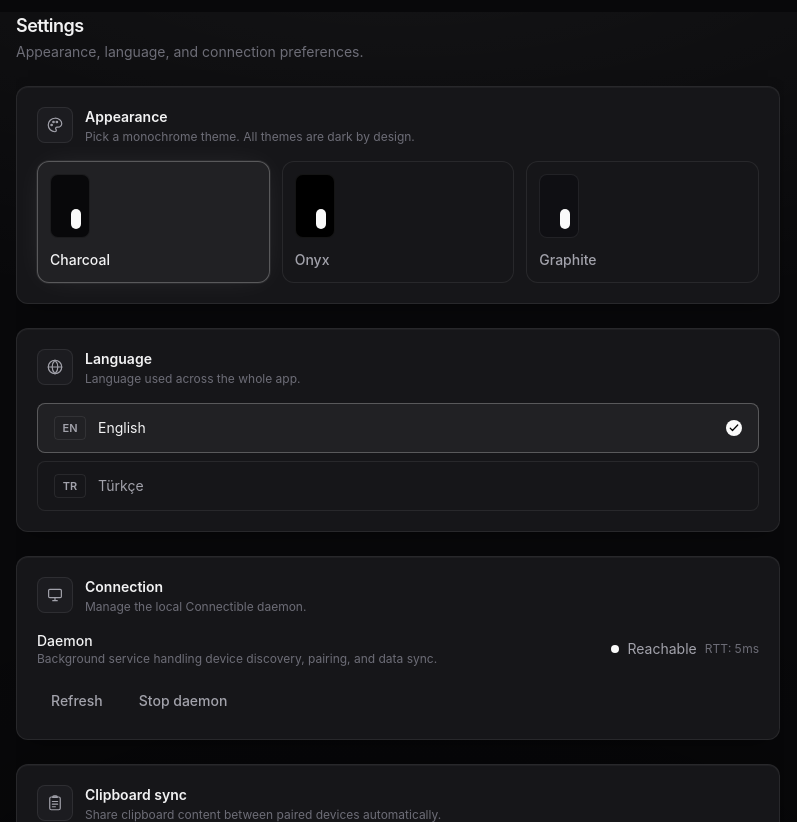
Test: SettingsPanel › stops the daemon, re-checks status, and surfaces a stop failure distinctly from a status-check failure (T-103)
Click the button "Stop daemon". click: point(183, 701)
box: [125, 683, 242, 719]
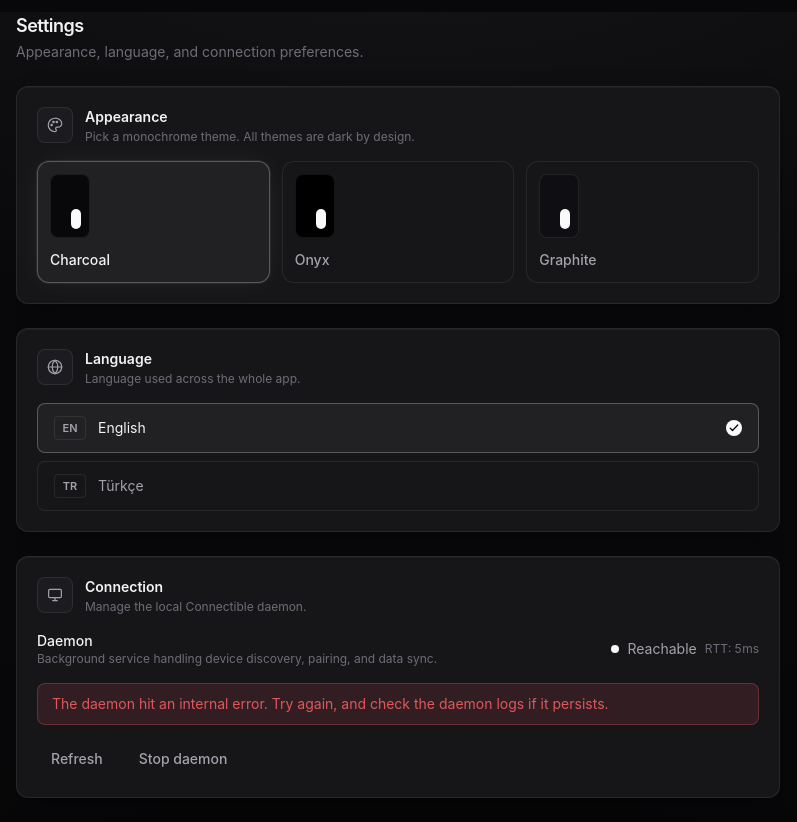
Expected: the message shows "The daemon hit an internal error. Try again, and check the daemon logs if it persists.", [52, 695, 609, 712]
